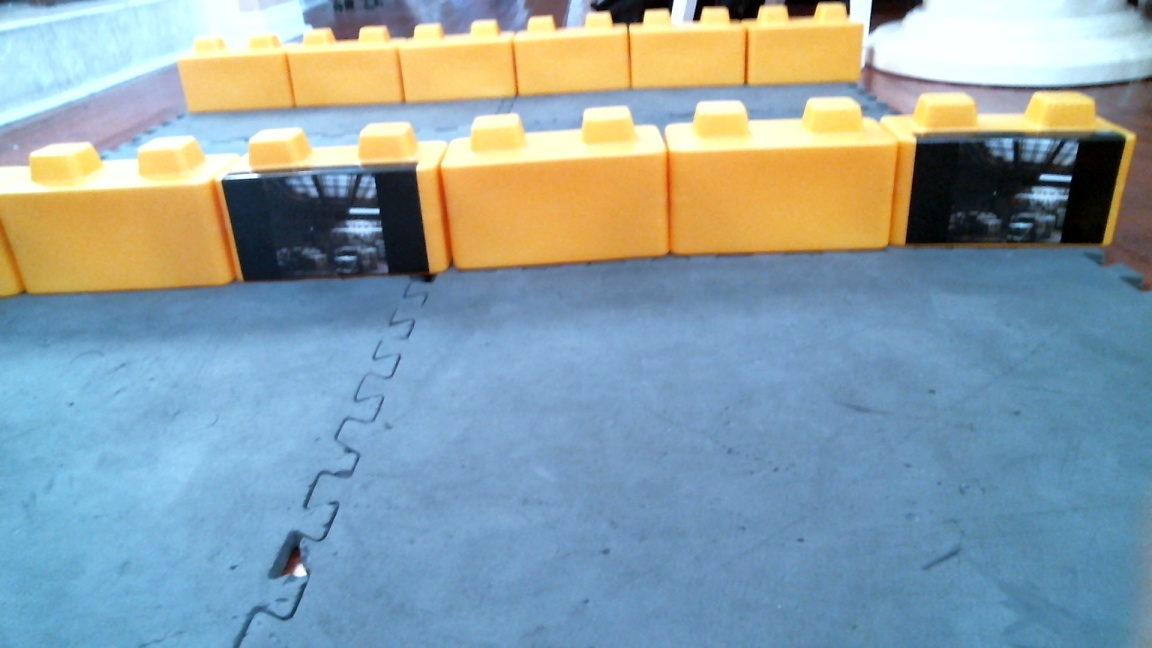skystone: (894, 93, 1130, 253), (221, 131, 456, 280)
stone: (673, 93, 892, 267), (1, 132, 238, 290), (448, 108, 664, 276), (296, 22, 390, 113), (186, 34, 288, 117), (406, 18, 506, 102)
